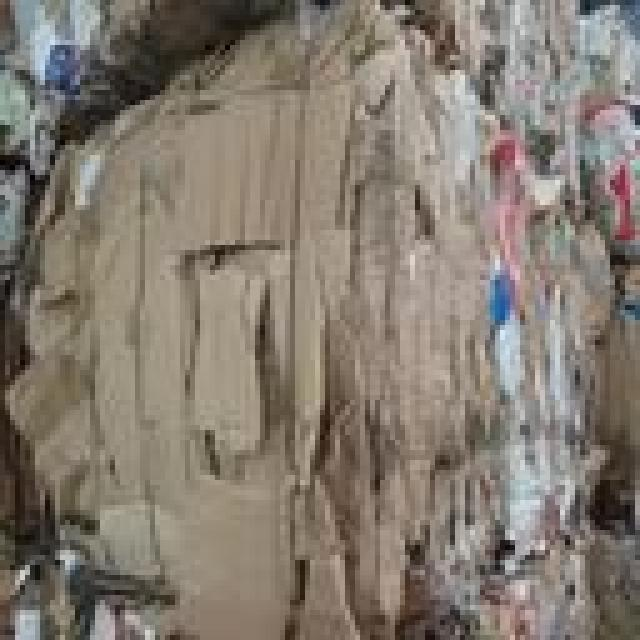cardboard: (0, 0, 635, 635), (35, 225, 635, 635), (0, 0, 305, 635), (450, 80, 605, 635), (0, 0, 245, 255), (375, 0, 455, 635), (305, 0, 380, 635), (0, 425, 170, 635), (410, 0, 575, 215), (175, 460, 350, 635), (185, 260, 270, 450), (580, 255, 635, 515), (575, 100, 635, 255), (575, 0, 635, 115), (580, 520, 635, 635)
